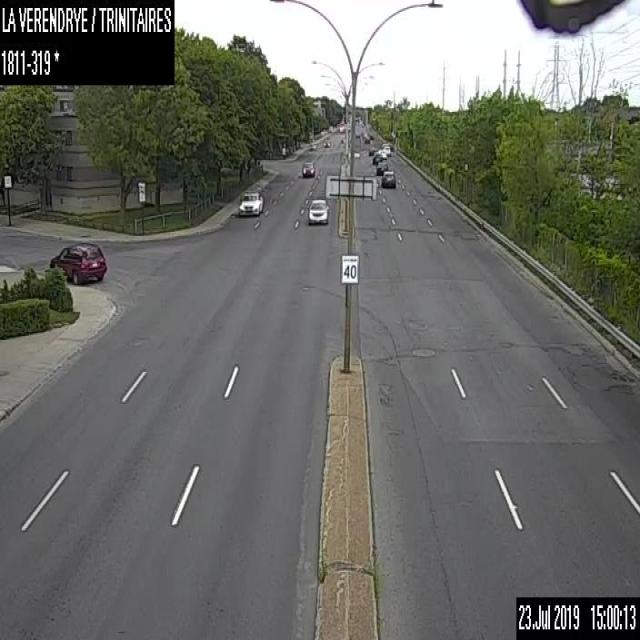vehicle: (49, 240, 108, 284), (238, 188, 264, 216), (306, 197, 329, 223), (382, 169, 396, 188), (301, 160, 314, 177), (376, 161, 387, 175), (372, 151, 383, 165), (376, 147, 386, 158), (368, 145, 375, 155), (383, 145, 390, 154), (323, 138, 330, 146), (309, 142, 316, 149), (364, 136, 369, 142), (355, 132, 359, 138), (362, 132, 366, 138)
